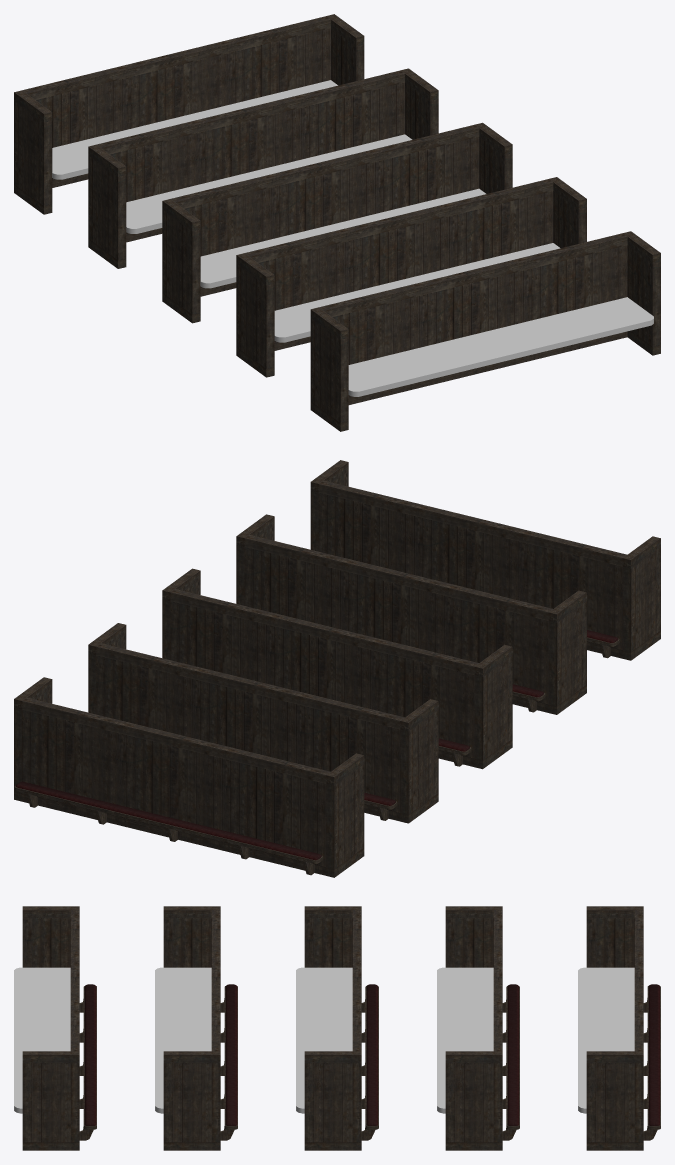
File: church_bench_cluster.DAE
The picture shows the model from 3 angles, top to bottom: view 1: azimuth 30°, elevation 25°; view 2: azimuth 150°, elevation 25°; view 3: azimuth 270°, elevation 25°; orthographic projection. The views are drawn at different scales.
Parts seen in each view (by area): view 1: Box009, Box008; view 2: Box009, Box020; view 3: Box009, Box008, Box020.
Boxes of the visible parts, x1=… form: Box009: x1=14, y1=14, x2=660, y2=431; Box008: x1=52, y1=80, x2=653, y2=396; Box009: x1=14, y1=460, x2=660, y2=877; Box020: x1=15, y1=630, x2=618, y2=860; Box009: x1=22, y1=906, x2=660, y2=1150; Box008: x1=14, y1=967, x2=634, y2=1113; Box020: x1=84, y1=984, x2=659, y2=1125.
Size of the model in its own units: 5 by 1.5 by 9.2.
